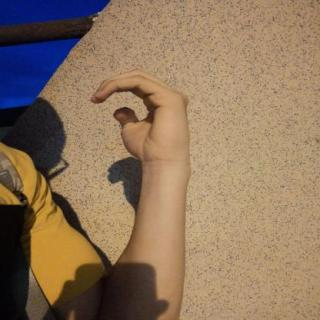JEEM: (78, 62, 204, 173)
